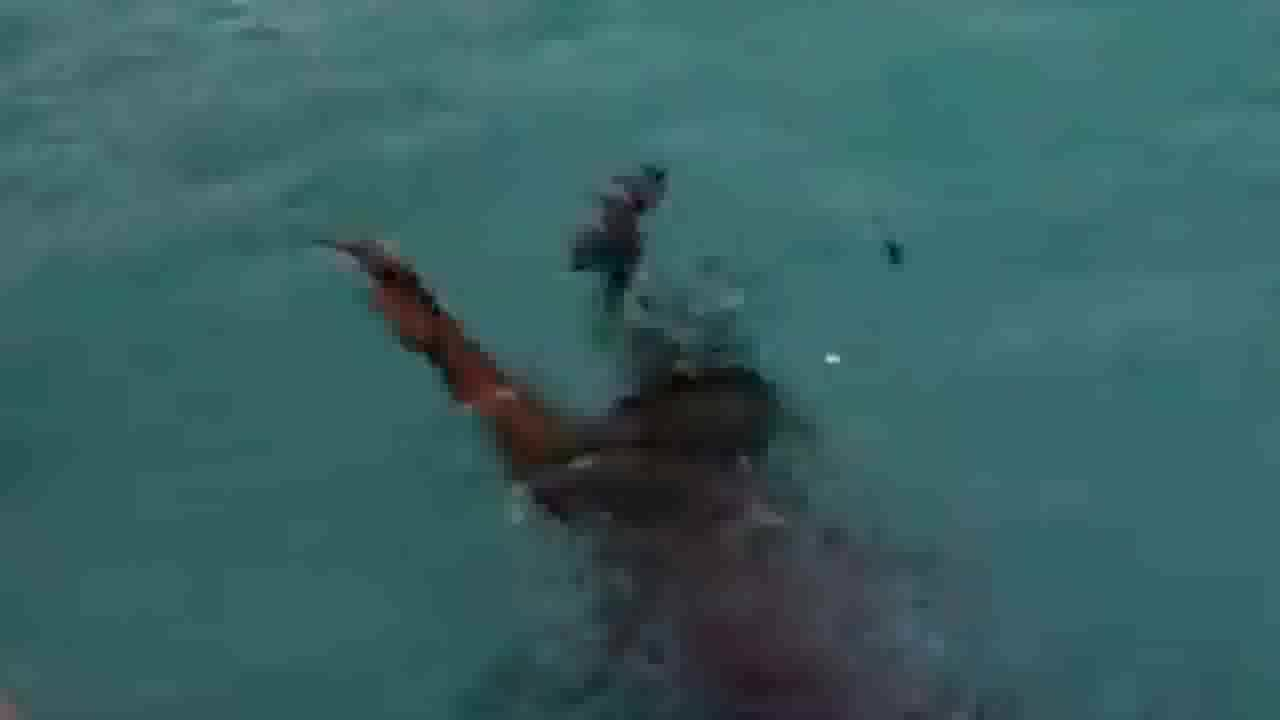Drowning: (334, 159, 804, 720)
